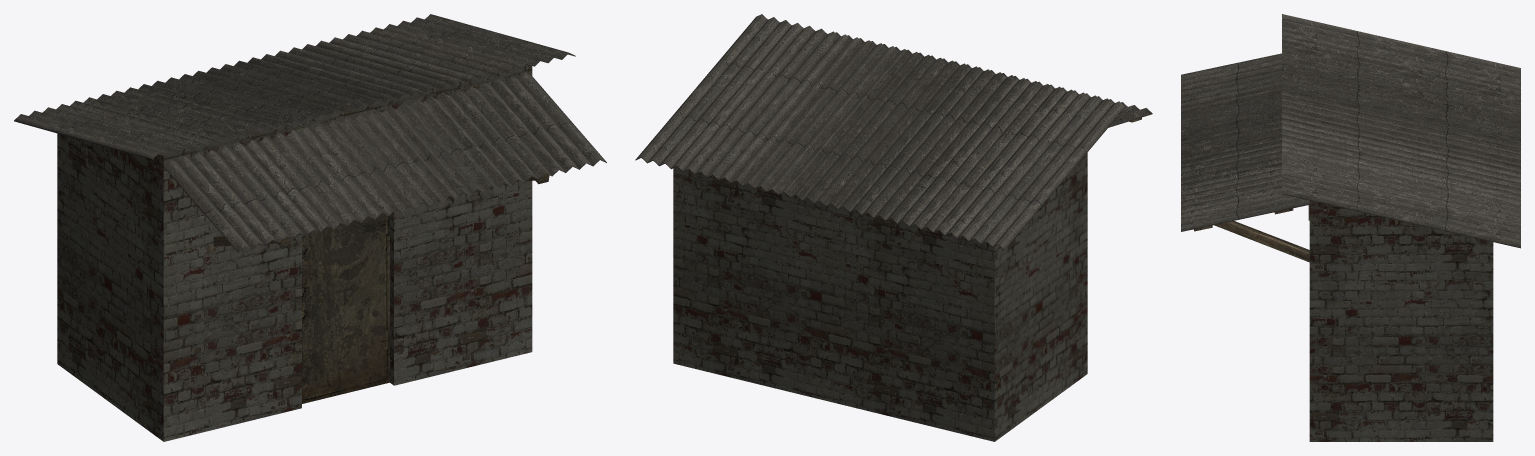
Rendered from shed_ax_2.obj.
3 views of the same model, side by side, from view 1: azimuth 30°, elevation 25°; view 2: azimuth 150°, elevation 25°; view 3: azimuth 270°, elevation 25° (orthographic). The views are drawn at different scales.
Visible parts, largest first — view 1: shed_ax_2, door_hr_3; view 2: shed_ax_2; view 3: shed_ax_2.
Part boxes in pixels (x1,y1,x2,y2): shed_ax_2: (14, 14, 606, 441); door_hr_3: (302, 213, 389, 403); shed_ax_2: (635, 14, 1152, 441); shed_ax_2: (1181, 14, 1520, 441).
Bounding box in the file's own units: 4.59 × 3.17 × 3.7.
